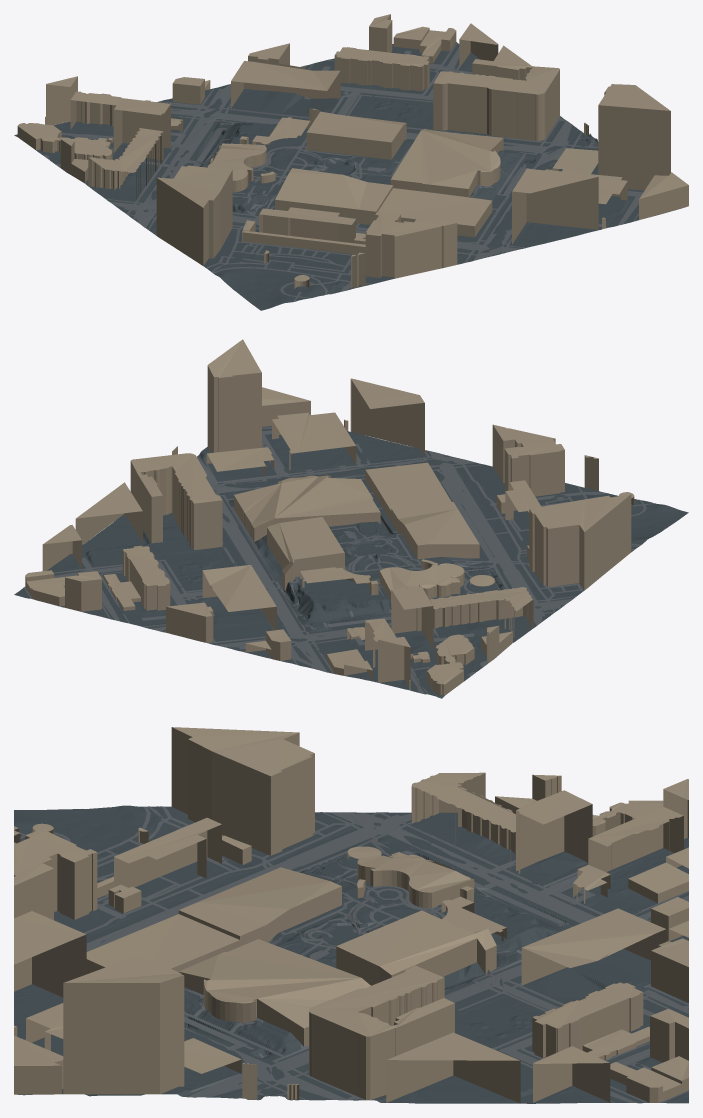
File: epsg26910-1439-10890.lod0.glb
3 renders of one model, top to bottom at view 1: azimuth 30°, elevation 25°; view 2: azimuth 150°, elevation 25°; view 3: azimuth 270°, elevation 25°, orthographic. The views are drawn at different scales.
Parts seen in each view (by area): view 1: epsg26910-1439-10890-lod0; view 2: epsg26910-1439-10890-lod0; view 3: epsg26910-1439-10890-lod0.
Boxes of the visible parts, x1,y1,x2,y2 form: epsg26910-1439-10890-lod0: (14,14,688,310); epsg26910-1439-10890-lod0: (14,339,688,698); epsg26910-1439-10890-lod0: (14,727,688,1103).
Bounding box in the file's own units: 384 × 79.24 × 384.
